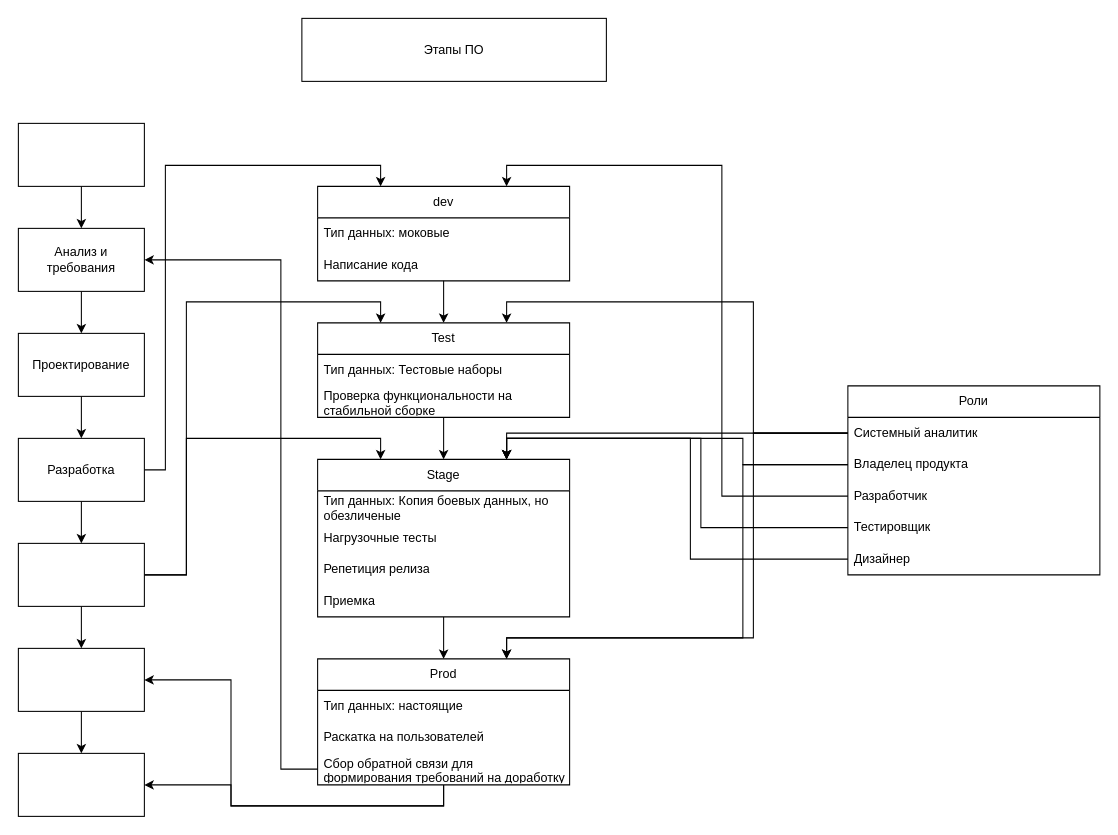
Image size: 1118x835. Some labels were removed from this diagram. The shapes that lost their labels are listed below. From the top down, each one's centre as x and y in pixels, then its label:
At point 80,154: "Инициация".
At point 80,574: "Тестирование".
At point 80,679: "Внедрение".
At point 80,784: "Сопровождение".
